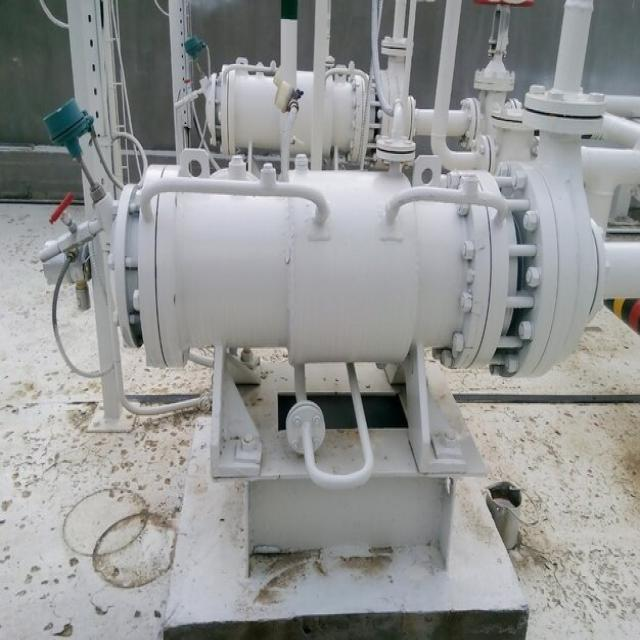compressor: (37, 0, 634, 537)
